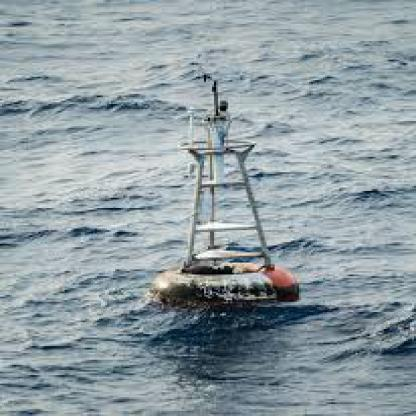buoy: (143, 54, 307, 307)
